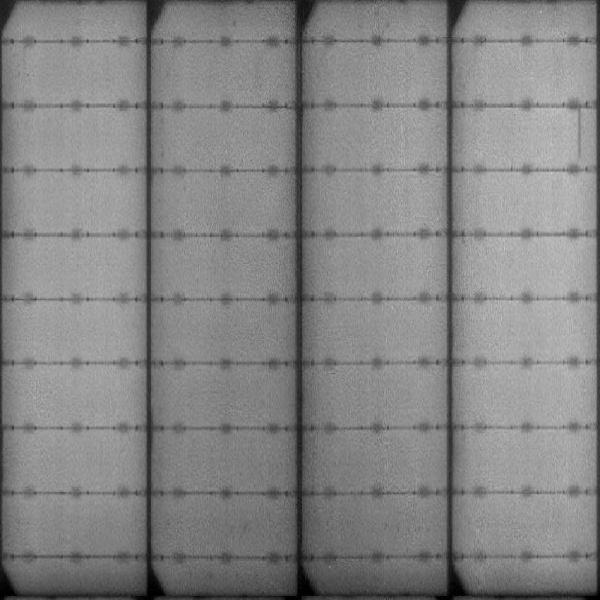scratch: (570, 106, 587, 160)
